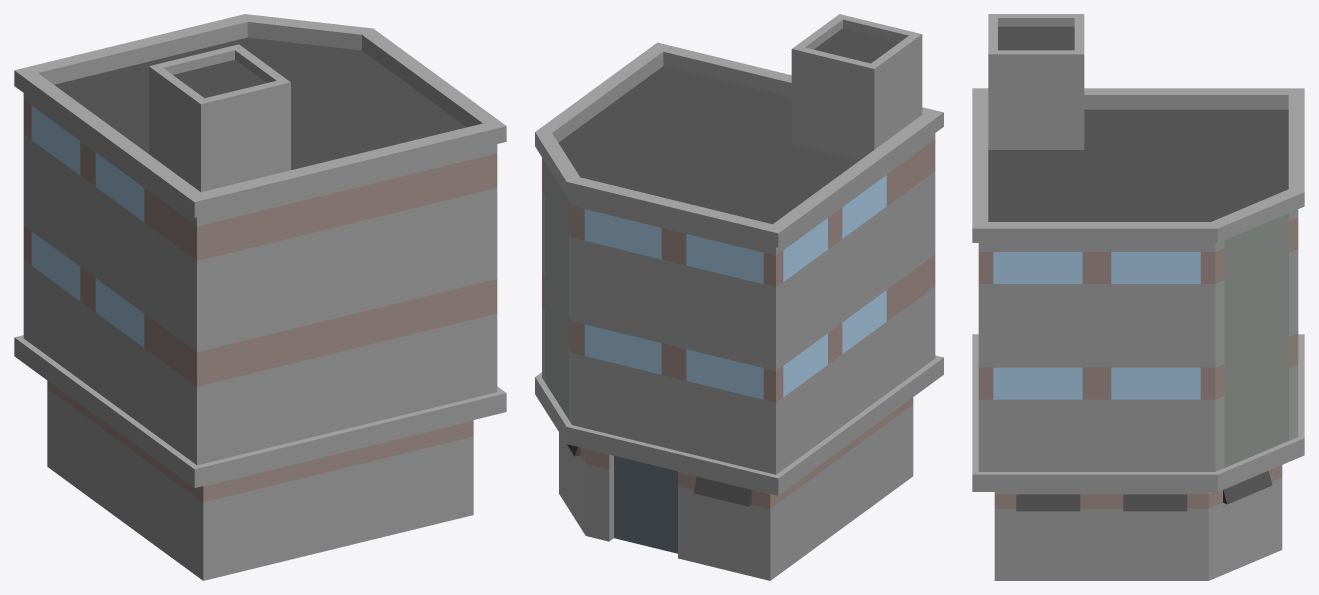
The model's file is building (1).fbx.
The picture shows the model from 3 angles, left to right: view 1: azimuth 30°, elevation 25°; view 2: azimuth 150°, elevation 25°; view 3: azimuth 270°, elevation 25°; orthographic projection. The views are drawn at different scales.
Parts seen in each view (by area): view 1: Group1; view 2: Group1; view 3: Group1.
Boxes of the visible parts, box(x1,y1,x2,y2) form: Group1: box(14, 14, 506, 580); Group1: box(535, 14, 943, 580); Group1: box(972, 14, 1304, 580).
Size of the model in its own units: 104 by 153 by 104.
